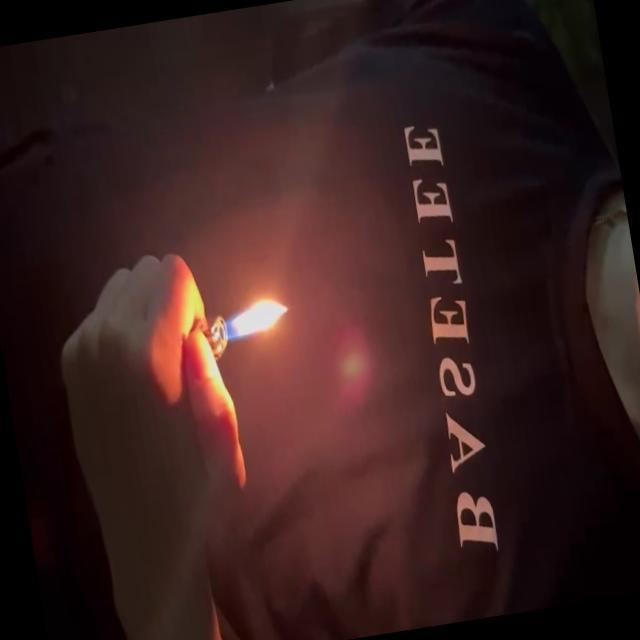Fire: (214, 290, 296, 351)
